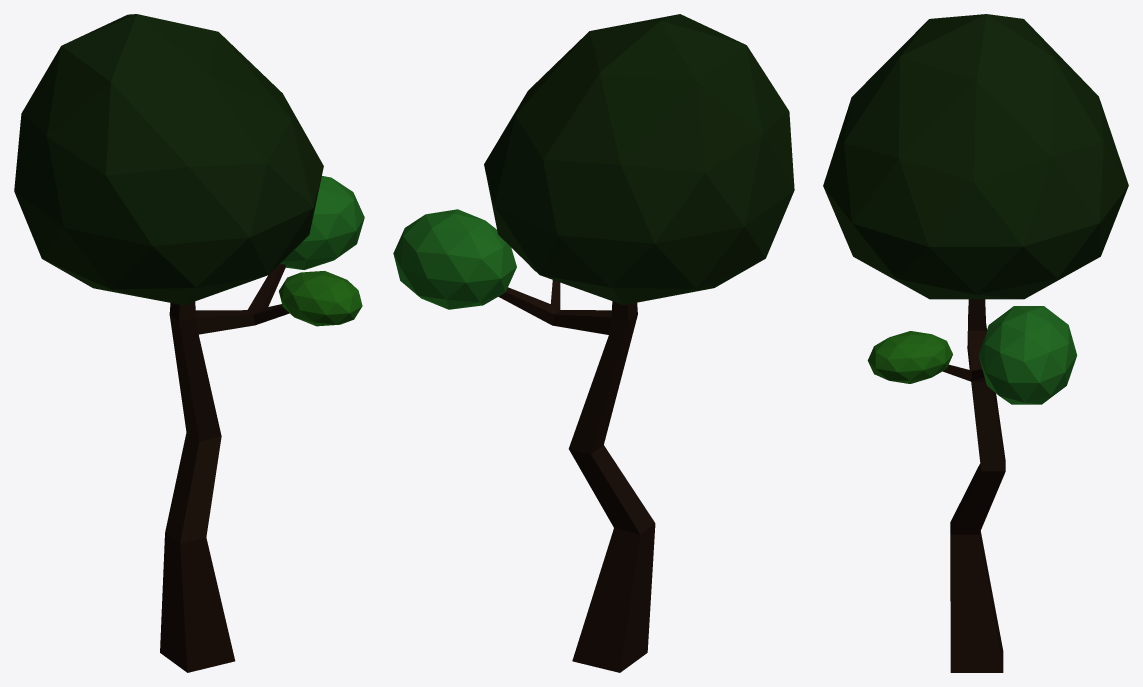
The model's file is Tree.obj.
The picture shows the model from 3 angles, left to right: view 1: azimuth 30°, elevation 25°; view 2: azimuth 150°, elevation 25°; view 3: azimuth 270°, elevation 25°; orthographic projection. The views are drawn at different scales.
Visible parts, largest first — view 1: Tree_05_Cube.002_Dark_green, Tree_05_Cube.002_Brown, Tree_05_Cube.002_Green, Tree_05_Cube.002_Light_green; view 2: Tree_05_Cube.002_Dark_green, Tree_05_Cube.002_Brown, Tree_05_Cube.002_Green; view 3: Tree_05_Cube.002_Dark_green, Tree_05_Cube.002_Brown, Tree_05_Cube.002_Green, Tree_05_Cube.002_Light_green.
Part boxes in pixels (x1,y1,x2,y2): Tree_05_Cube.002_Dark_green: [14, 14, 323, 305]; Tree_05_Cube.002_Brown: [160, 264, 289, 672]; Tree_05_Cube.002_Green: [279, 176, 364, 269]; Tree_05_Cube.002_Light_green: [279, 271, 362, 326]; Tree_05_Cube.002_Dark_green: [484, 14, 794, 304]; Tree_05_Cube.002_Brown: [498, 280, 655, 672]; Tree_05_Cube.002_Green: [393, 209, 516, 309]; Tree_05_Cube.002_Dark_green: [823, 14, 1128, 299]; Tree_05_Cube.002_Brown: [943, 299, 1005, 672]; Tree_05_Cube.002_Green: [978, 306, 1077, 404]; Tree_05_Cube.002_Light_green: [867, 331, 952, 383].
Size of the model in its own units: 2.25 by 4.09 by 1.82.
